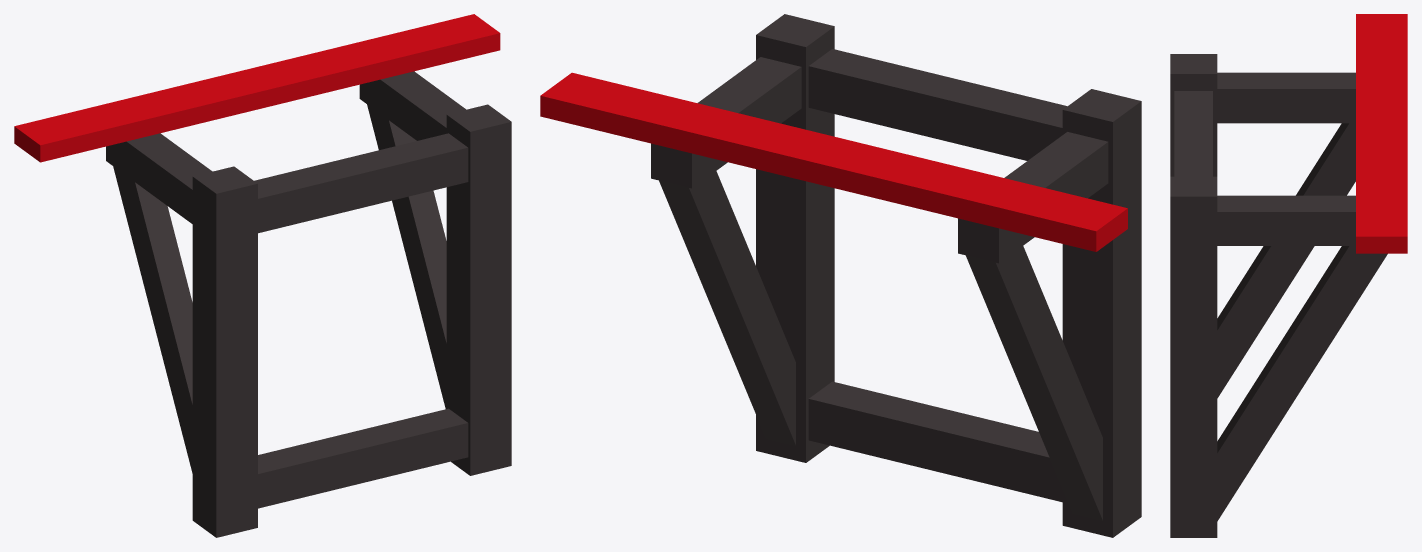
File: Stopblock_01_low.fbx
3 renders of one model, left to right at view 1: azimuth 30°, elevation 25°; view 2: azimuth 150°, elevation 25°; view 3: azimuth 270°, elevation 25°, orthographic. The views are drawn at different scales.
Parts seen in each view (by area): view 1: Stopblock_01_low; view 2: Stopblock_01_low; view 3: Stopblock_01_low.
Part boxes in pixels (box(x1,y1,x2,y2)): Stopblock_01_low: box(14, 14, 511, 537); Stopblock_01_low: box(540, 14, 1141, 537); Stopblock_01_low: box(1170, 14, 1407, 537).
Bounding box in the file's own units: 2.8 × 2 × 1.26.
